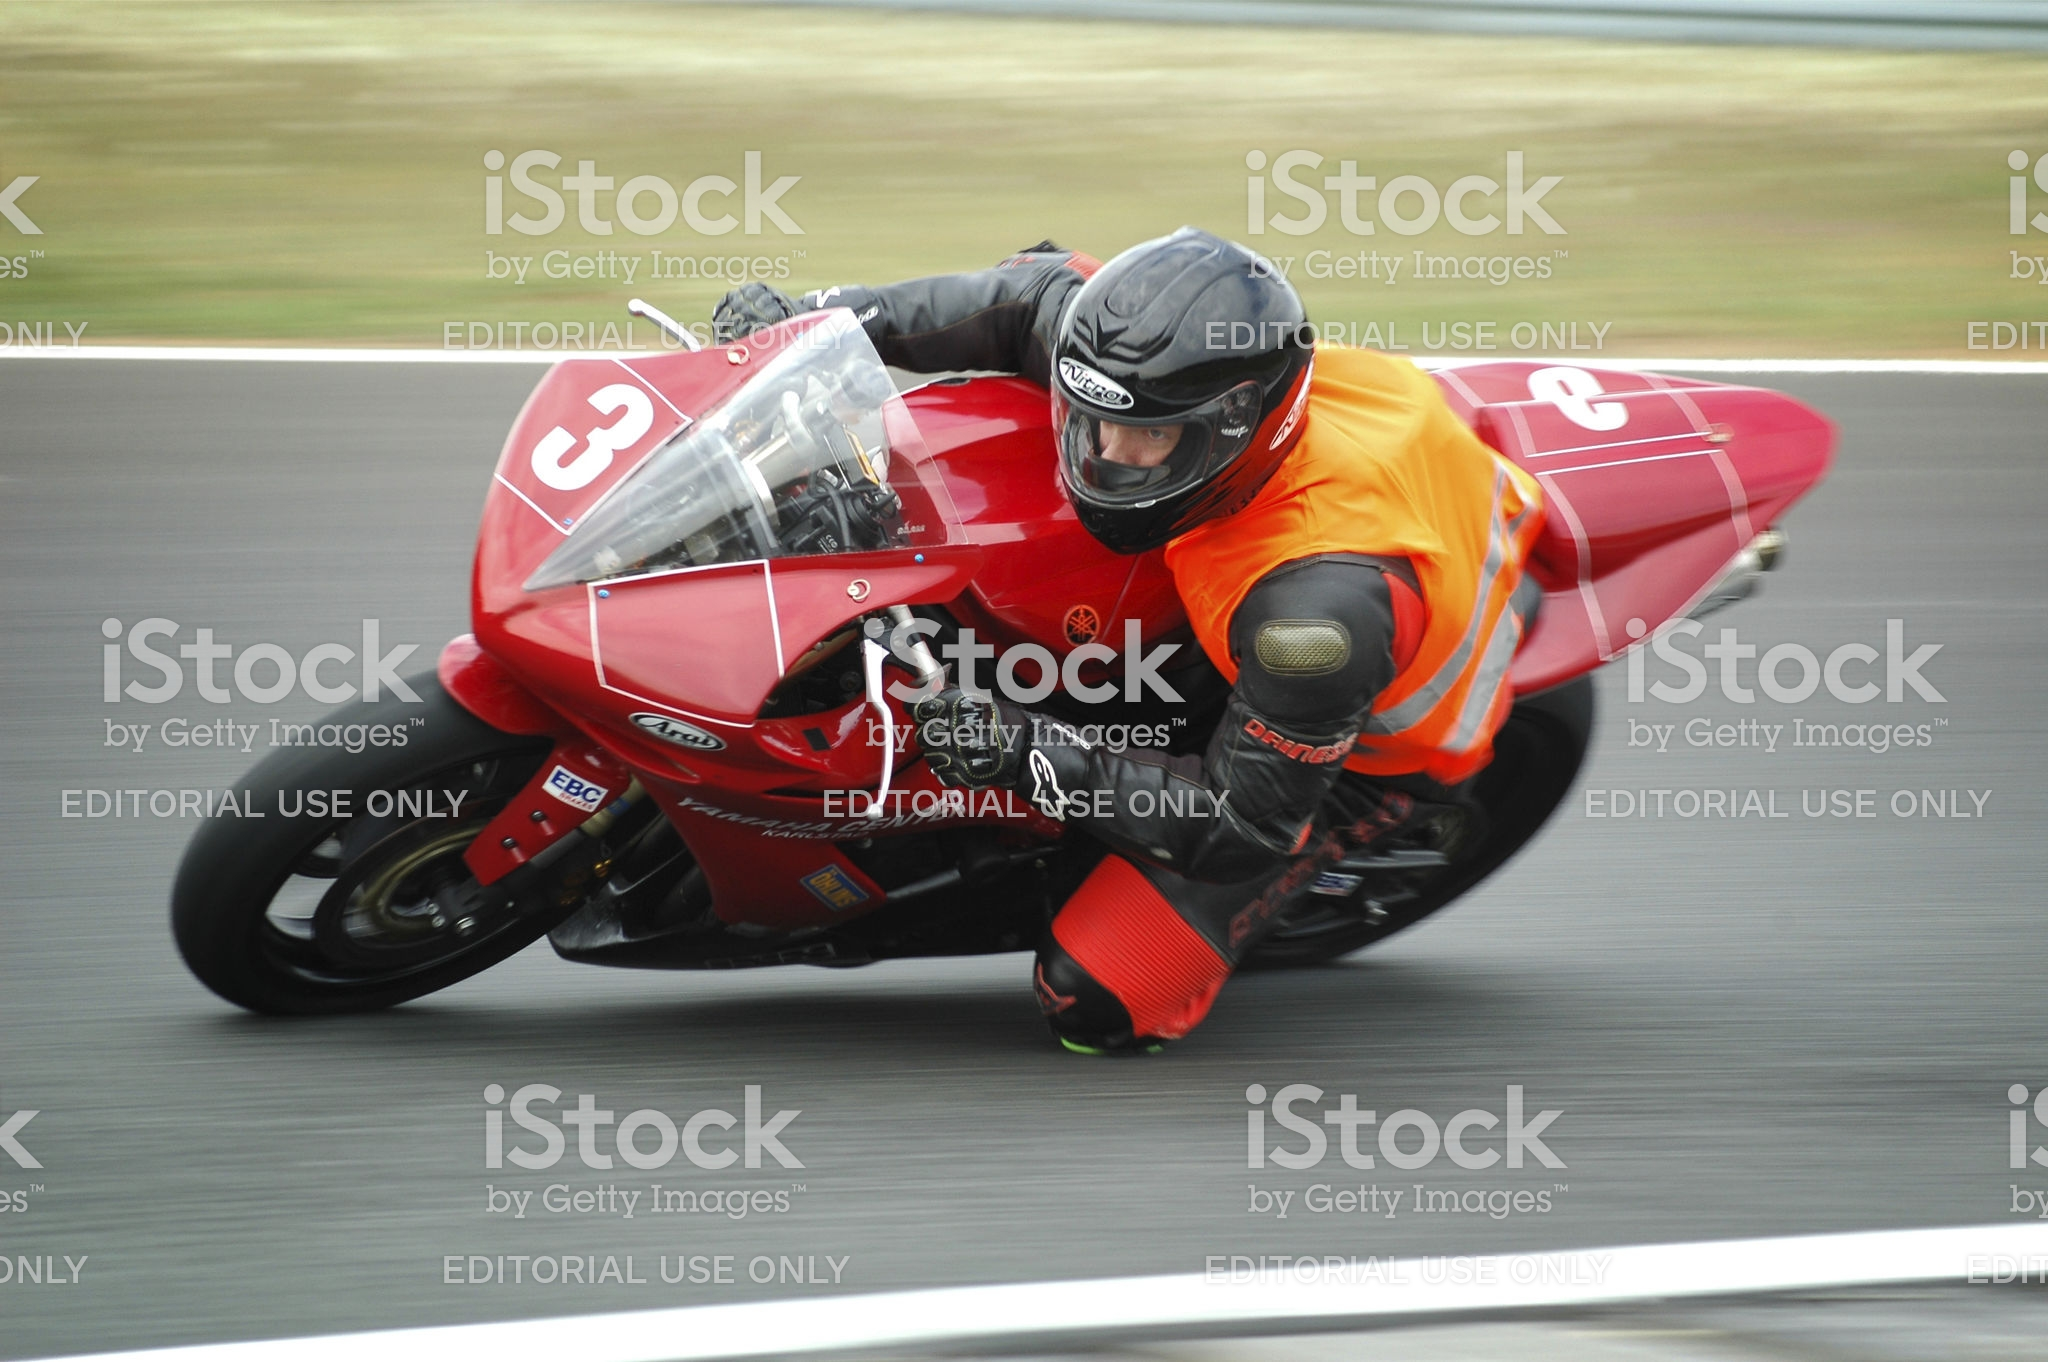helmet: (1027, 234, 1310, 538)
